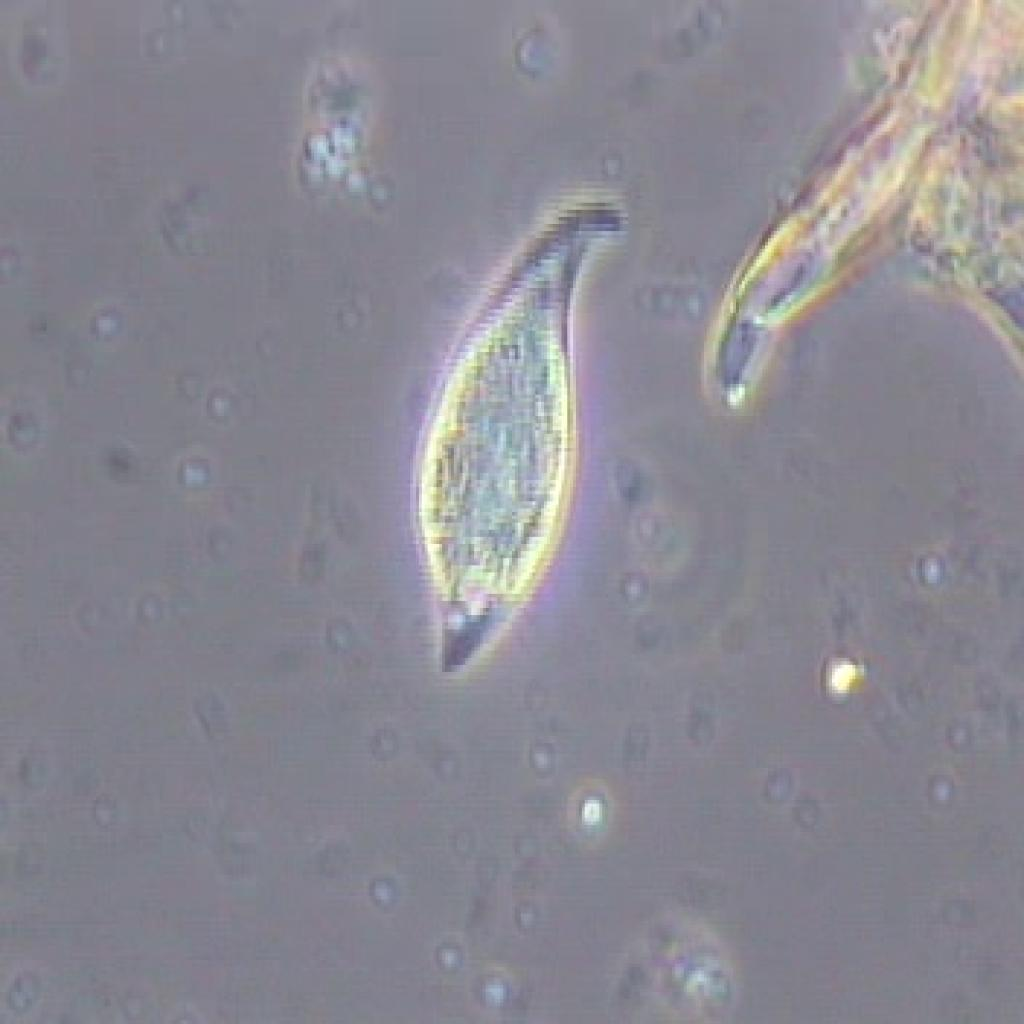Pristina: (386, 153, 648, 693)
